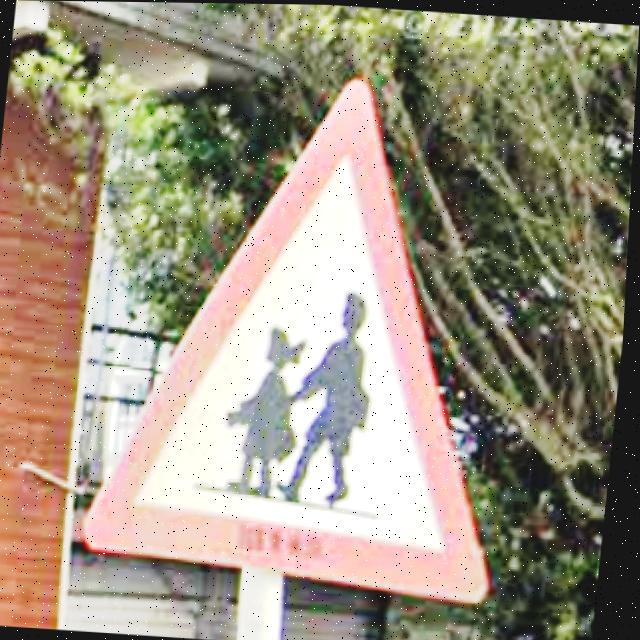childrencross: (91, 79, 493, 599)
